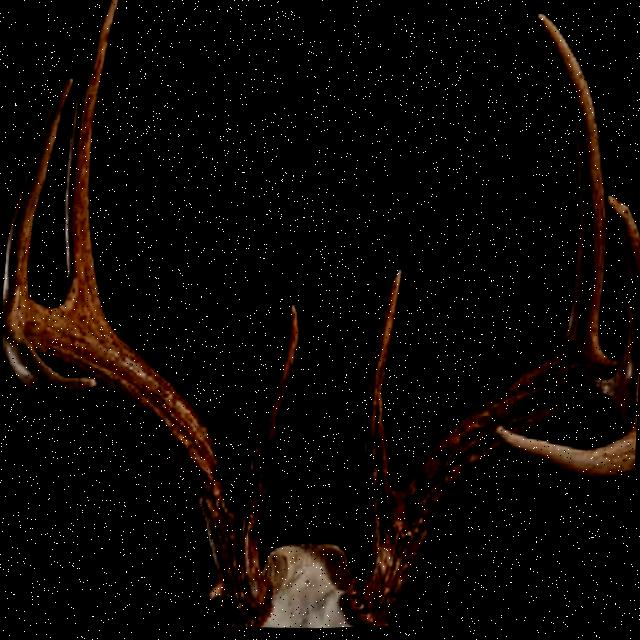E1: (206, 579, 222, 603)
L-G1: (362, 269, 403, 550)
L-G2: (536, 16, 606, 355)
L-G3: (607, 198, 640, 384)
R-F: (2, 307, 273, 630)
R-G1: (239, 304, 299, 526)
R-G2: (63, 0, 119, 317)
R-G3: (2, 78, 74, 307)
